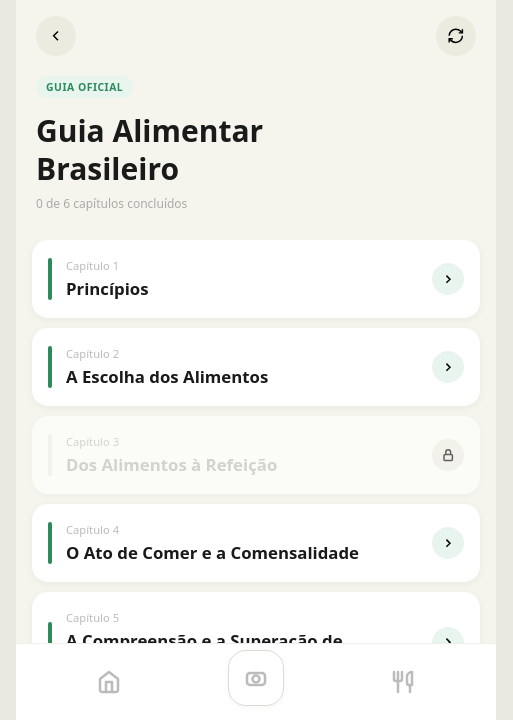
Test: Guia Alimentar (/guia) › abre um capitulo ativo e mostra seu conteudo
Click the text "Princípios".
click(108, 289)  # box [66, 277, 149, 300]
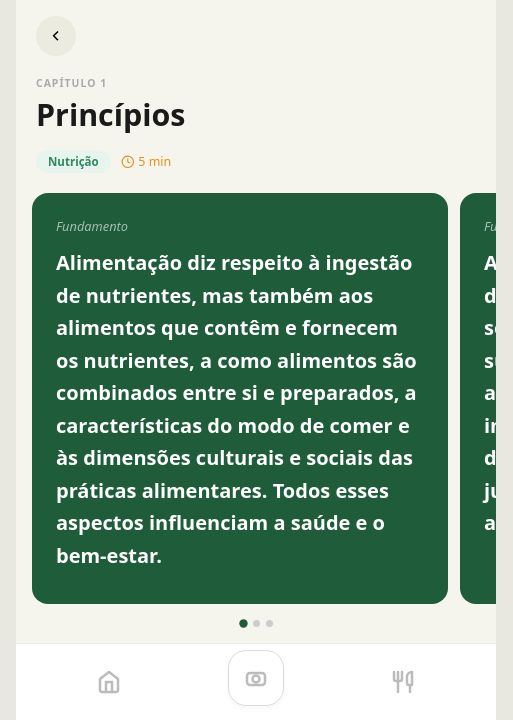
Result: the text "Alimentação diz respeito à ingestão de nutrientes" is shown at [56, 249, 417, 569]
